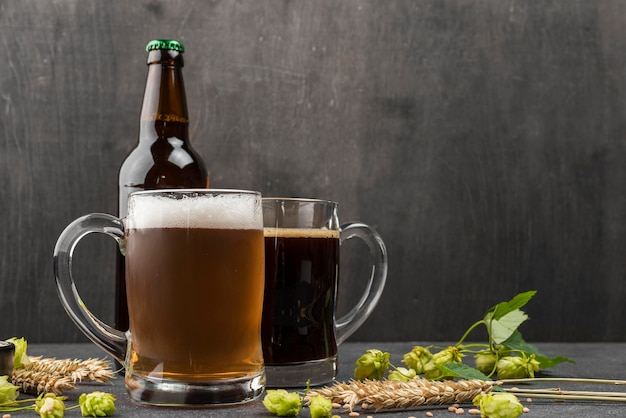alcohol: (47, 191, 265, 410), (113, 40, 208, 378), (260, 194, 389, 388)
